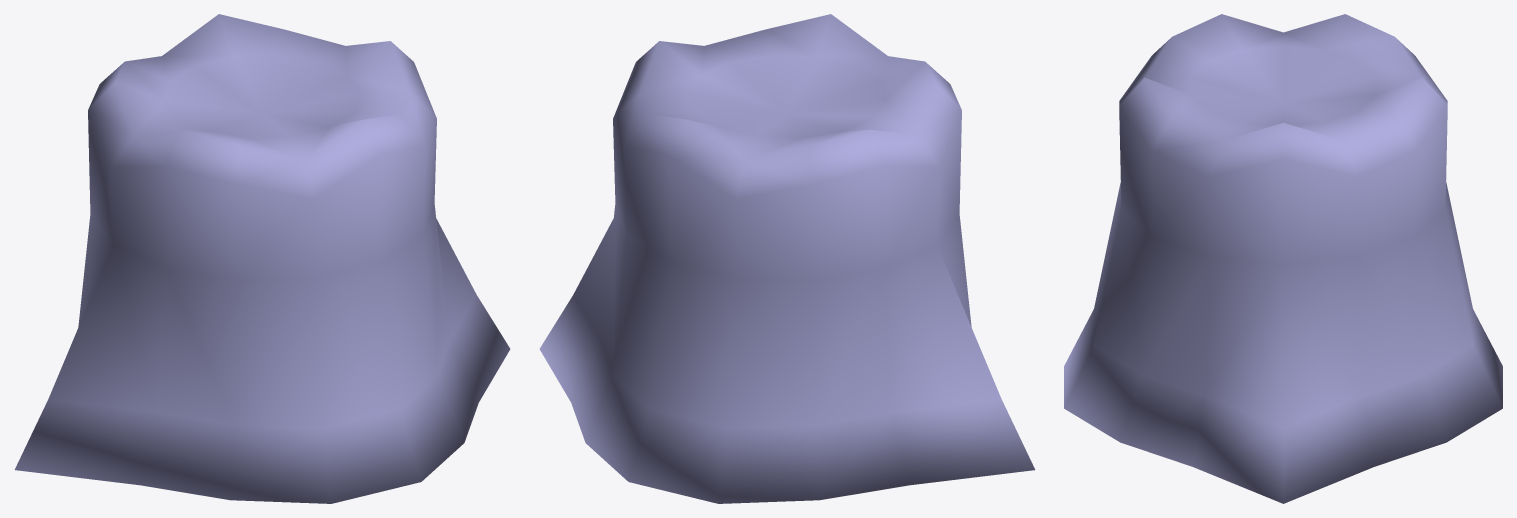
The model's file is Ghostly_Stump.glb.
3 renders of one model, left to right at view 1: azimuth 30°, elevation 25°; view 2: azimuth 150°, elevation 25°; view 3: azimuth 270°, elevation 25°, orthographic. The views are drawn at different scales.
Visible parts, largest first — view 1: Ghostly_Stump_0; view 2: Ghostly_Stump_0; view 3: Ghostly_Stump_0.
Part boxes in pixels (x1,y1,x2,y2): Ghostly_Stump_0: (14, 14, 510, 503); Ghostly_Stump_0: (539, 14, 1035, 503); Ghostly_Stump_0: (1064, 14, 1502, 503).
Size of the model in its own units: 1.16 by 0.755 by 0.9245.
